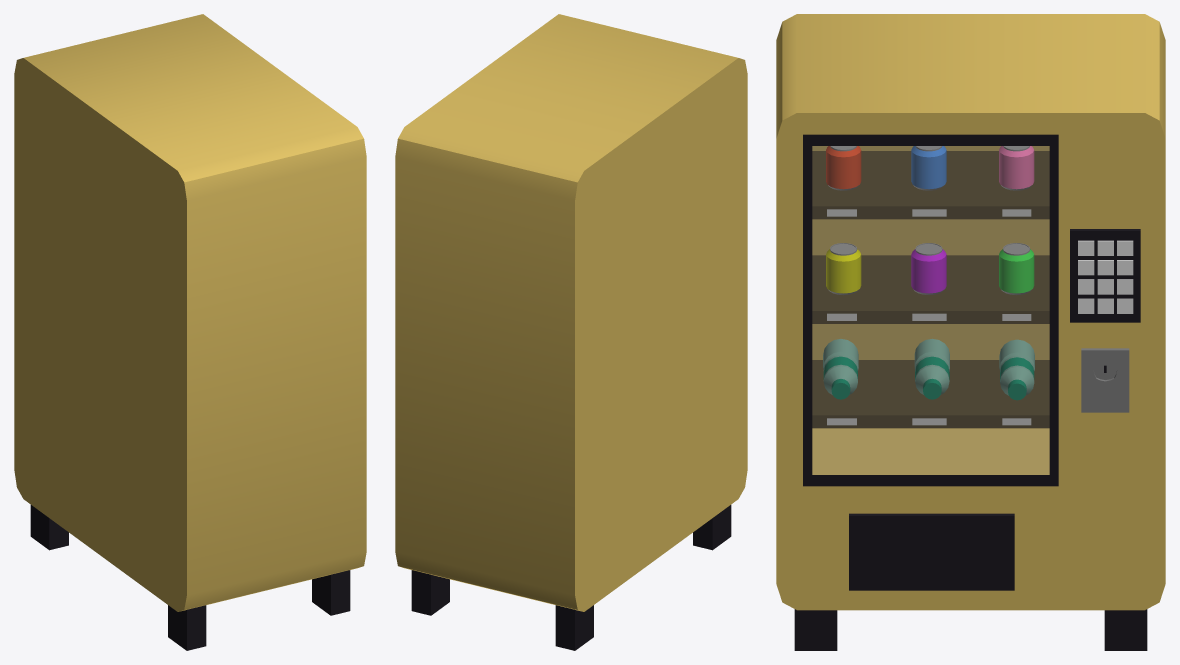
Rendered from soda_dispenser.fbx.
The picture shows the model from 3 angles, left to right: view 1: azimuth 30°, elevation 25°; view 2: azimuth 150°, elevation 25°; view 3: azimuth 270°, elevation 25°; orthographic projection. The views are drawn at different scales.
Parts seen in each view (by area): view 1: SodaDispenser; view 2: SodaDispenser; view 3: SodaDispenser.
Part boxes in pixels (x1,y1,x2,y2): SodaDispenser: (14,14,366,650); SodaDispenser: (395,14,747,650); SodaDispenser: (776,14,1165,650).
Bounding box in the file's own units: 485 × 1209 × 786.
